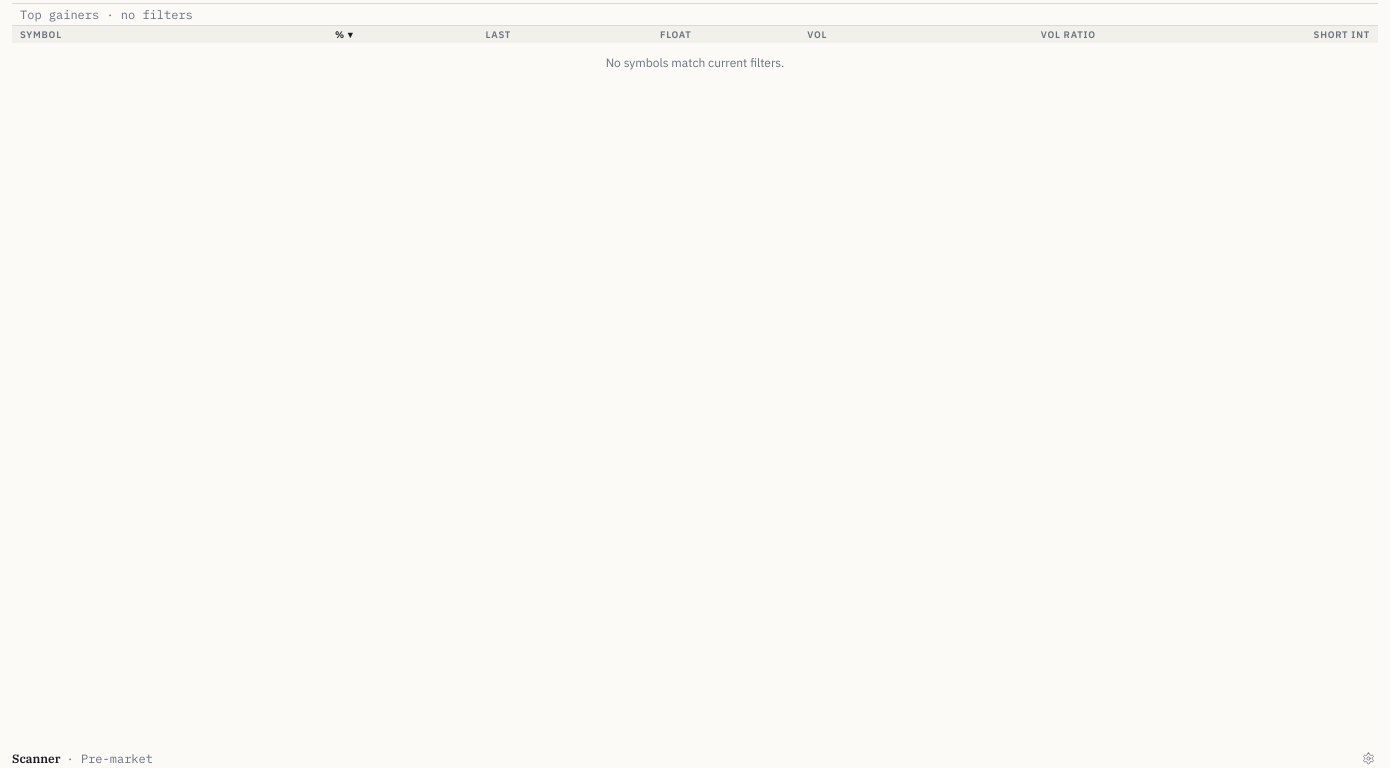
Scenario: ScannerPanel › keeps session and the icon-only Filters button in the panel header
The width and height of the screenshot is (1390, 768).
(page scrolled)
Check: the text "Scanner" is shown, box [12,751,60,766]
Check: the text "Pre-market" is shown, box [81,751,153,766]
Click the button named "filters" at (1368, 758), box [1359,749,1378,767]
(page scrolled)
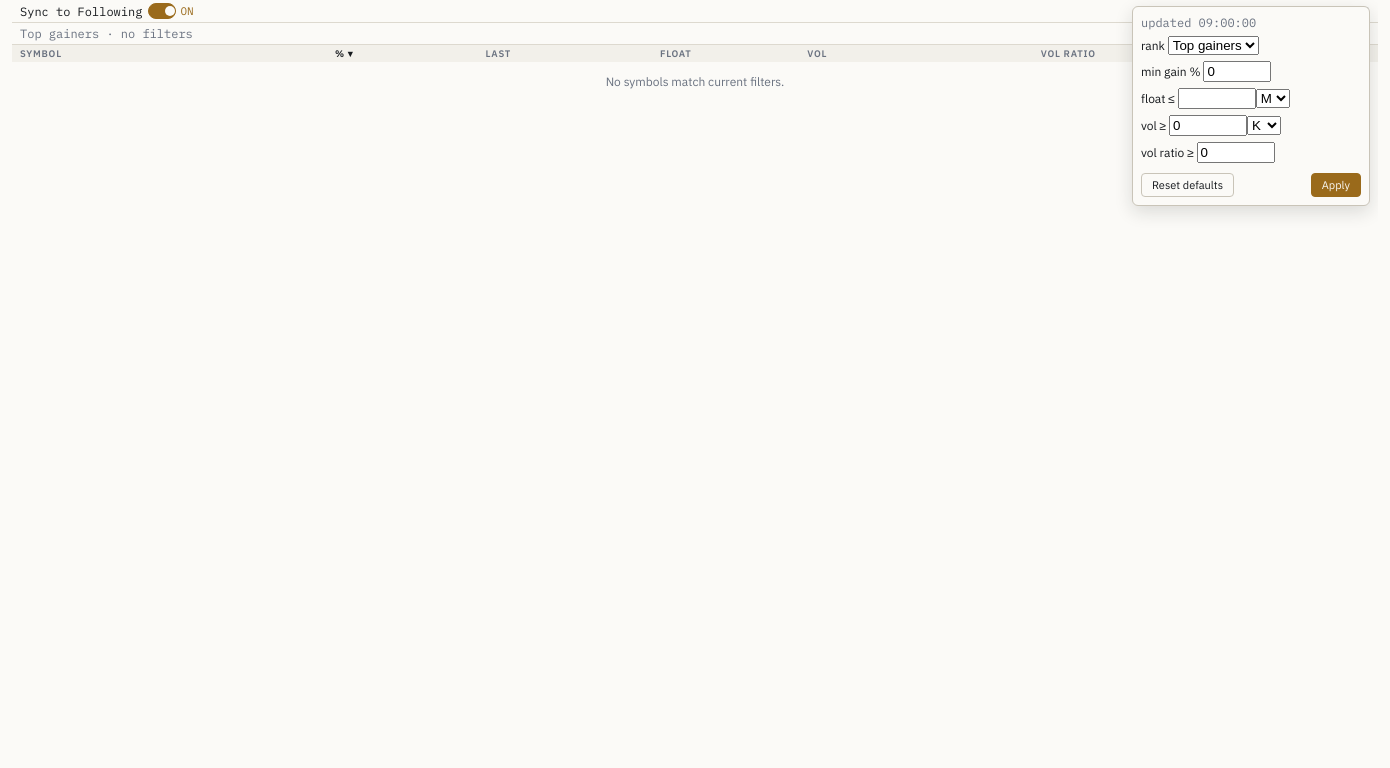
Check: the text "updated 09:00:00" is shown, box [1141,15,1256,30]
